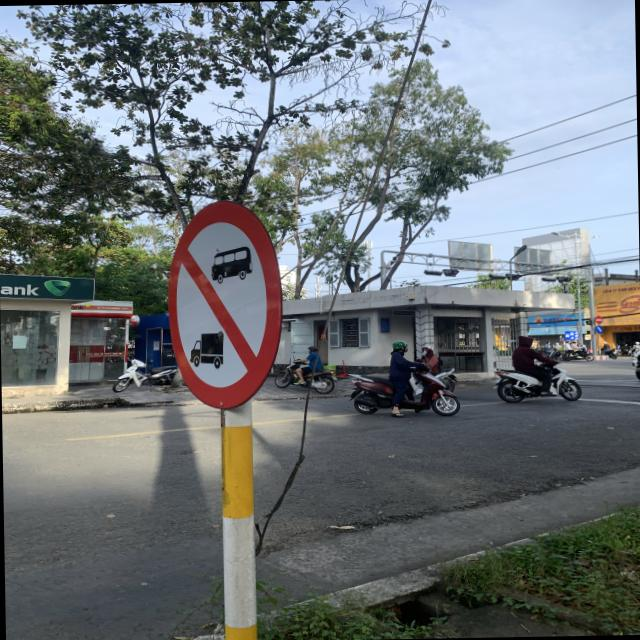Cam_XeTai_XeKhach: (167, 204, 288, 406)
